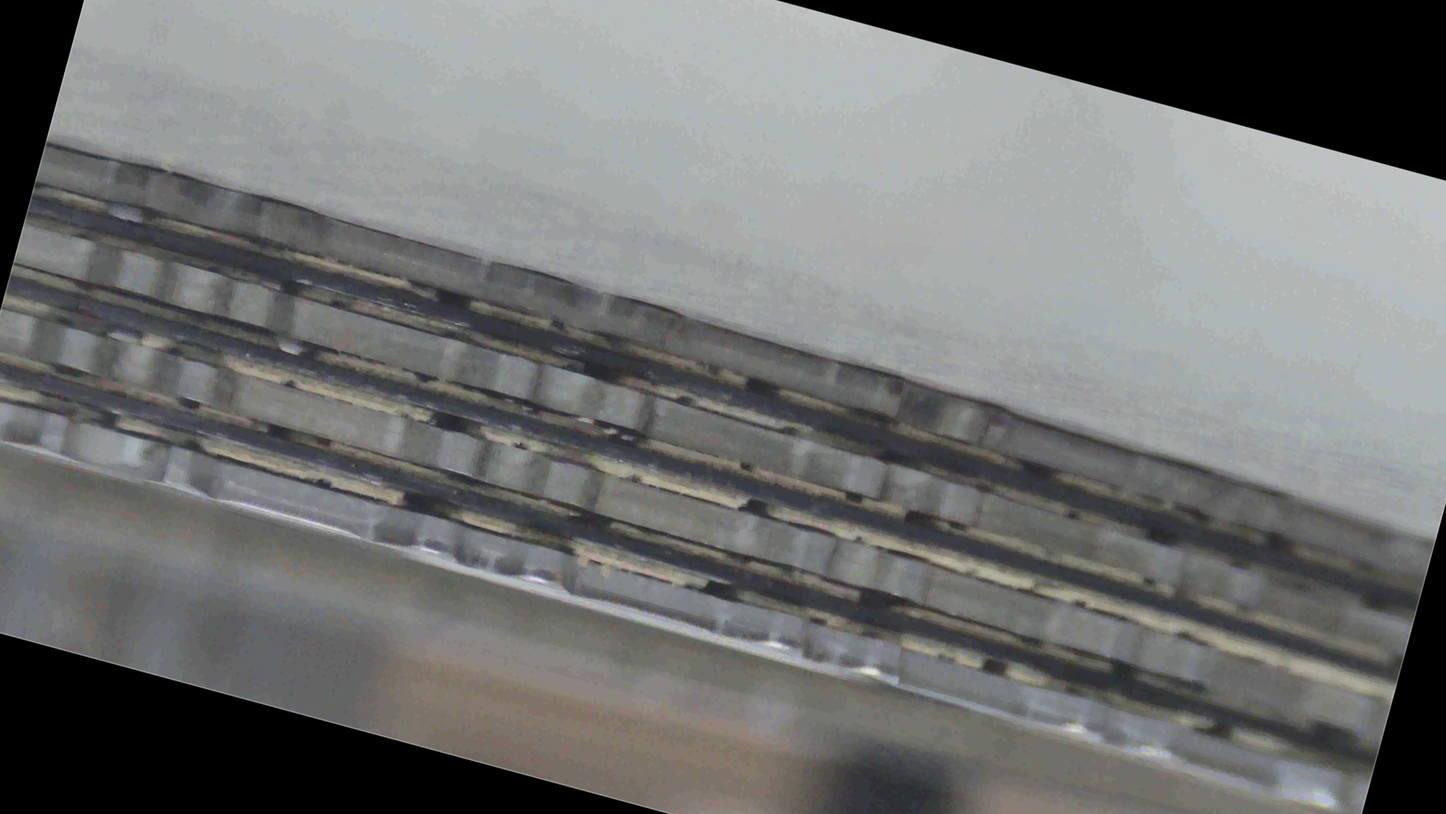Black metal plate: (35, 144, 1432, 574)
shiney metal plate: (137, 288, 1446, 814), (0, 341, 1442, 406), (3, 498, 1445, 561)
spacer: (2, 0, 1335, 520), (4, 325, 1442, 493), (0, 316, 1440, 354)
